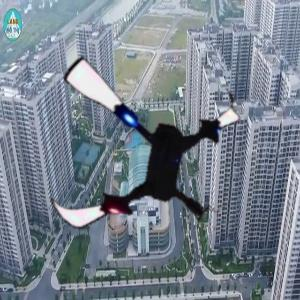drone: (28, 37, 248, 257)
